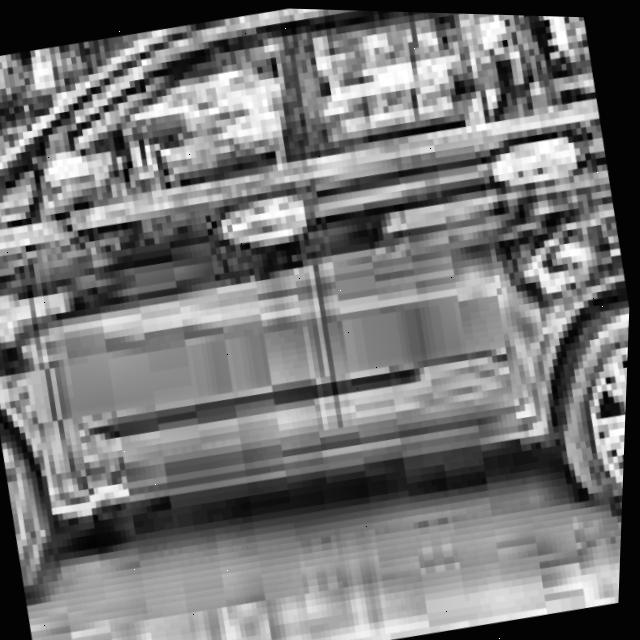light_vehicle: (0, 0, 640, 632)
